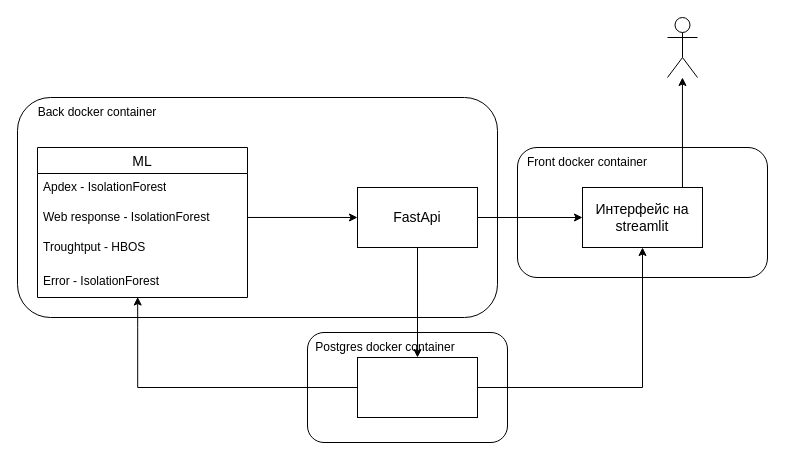
Image size: 785x460. Some labels were removed from this diagram. The box of each missing label's shape, as (x1, y1, x2, y2) in pixels:
Actor: (666, 16, 698, 78)
БД postgresql: (356, 356, 478, 418)
